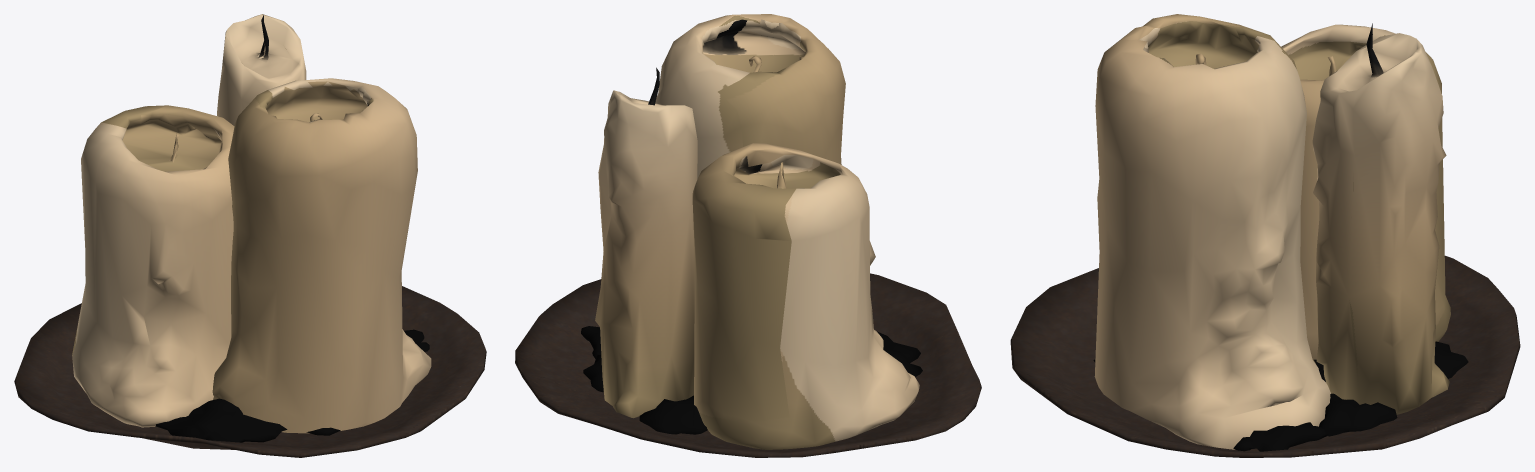
The model's file is CandlePlate.fbx.
The picture shows the model from 3 angles, left to right: view 1: azimuth 30°, elevation 25°; view 2: azimuth 150°, elevation 25°; view 3: azimuth 270°, elevation 25°; orthographic projection. The views are drawn at different scales.
Parts seen in each view (by area): view 1: CandlePlate; view 2: CandlePlate; view 3: CandlePlate.
Boxes of the visible parts, left/top/right/bottom form: CandlePlate: left=14, top=14, right=486, bottom=457; CandlePlate: left=515, top=14, right=981, bottom=457; CandlePlate: left=1010, top=14, right=1520, bottom=457.
Bounding box in the file's own units: 0.2242 × 0.17 × 0.2067.
2 materials, 2 textured.
